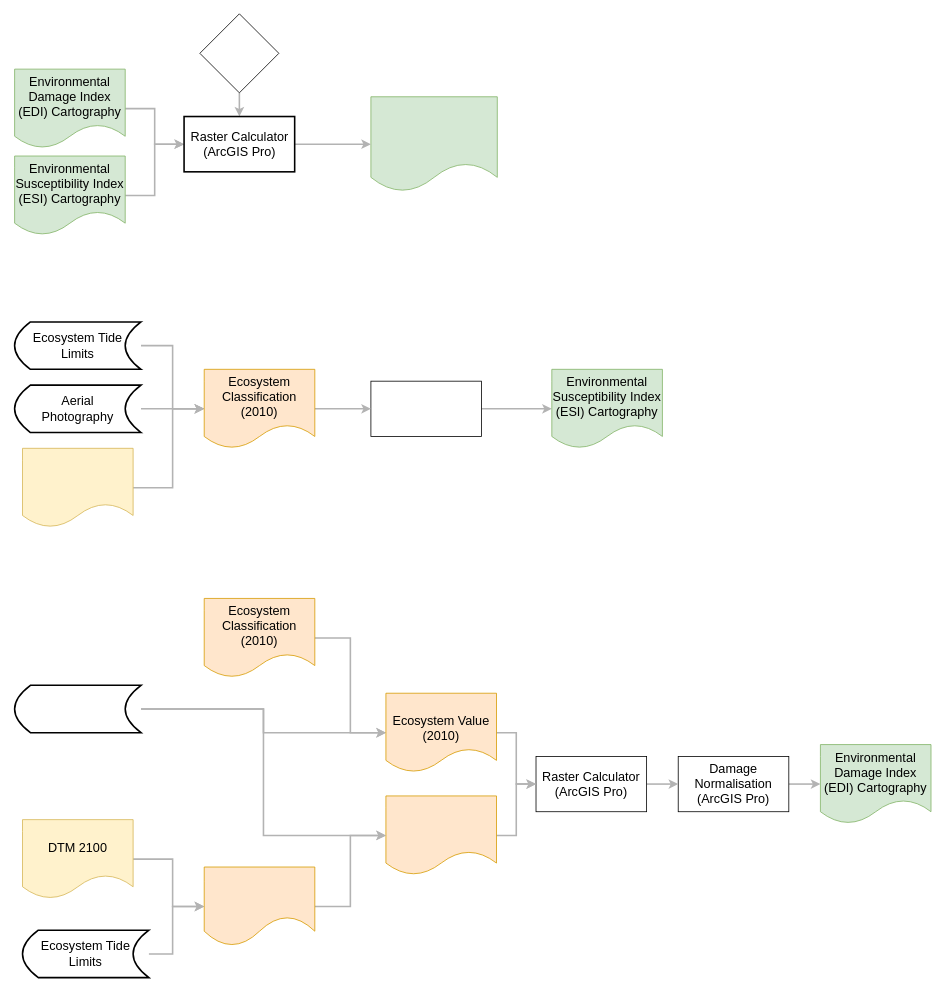
Image size: 945x992. Some labels were removed from this diagram. Here are the shapes that lost their labels. From the top down, the box of each, then its label:
(199, 13, 279, 93): Weights
(370, 96, 497, 192): Environmental Vulnerability Index (EVI) Cartography
(370, 380, 482, 436): Vulnerability Normalisation (ArcGIS Pro)
(22, 448, 133, 527): DTM 2010
(13, 684, 141, 733): Specialist Survey Results
(385, 795, 497, 875): Ecosystem Value (2100)
(203, 866, 315, 946): Ecosystem Classification (2100)
